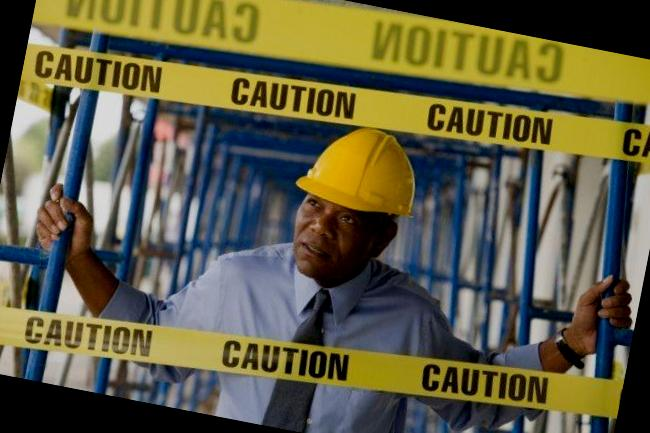helmet: (291, 117, 434, 224)
no_vest: (202, 253, 428, 433)
person: (159, 94, 483, 433)
